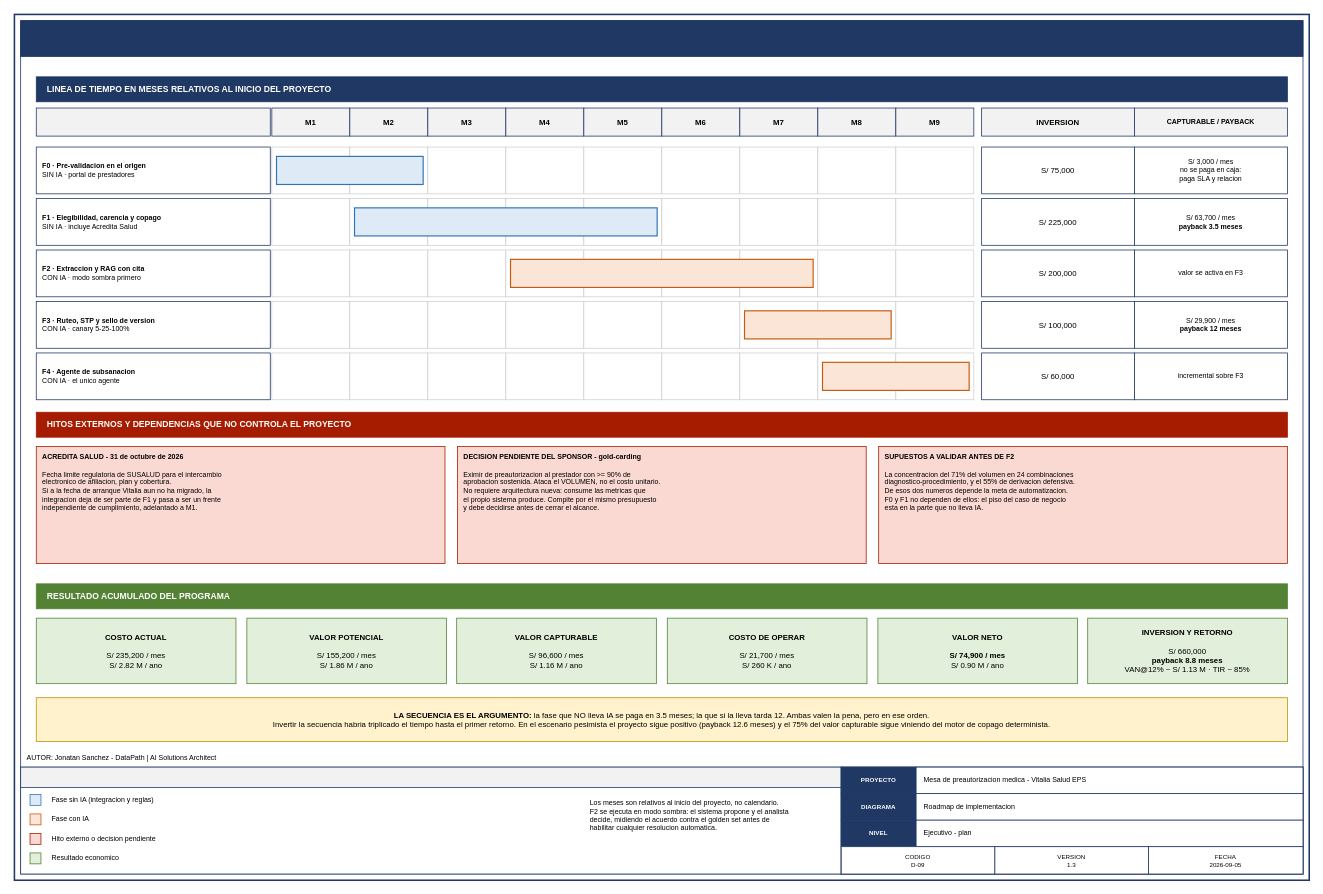
The diagram is 1323 pixels wide and 894 high, and some of its shapes have lost their labels. Here are the shapes that lost their labels. From the top down, the box of each, then its label:
(20, 20, 1303, 57): ROADMAP DE IMPLEMENTACION, HITOS Y RETORNO POR FASE
(35, 107, 270, 136): FASE
(20, 766, 841, 787): LEYENDA / NOTAS
